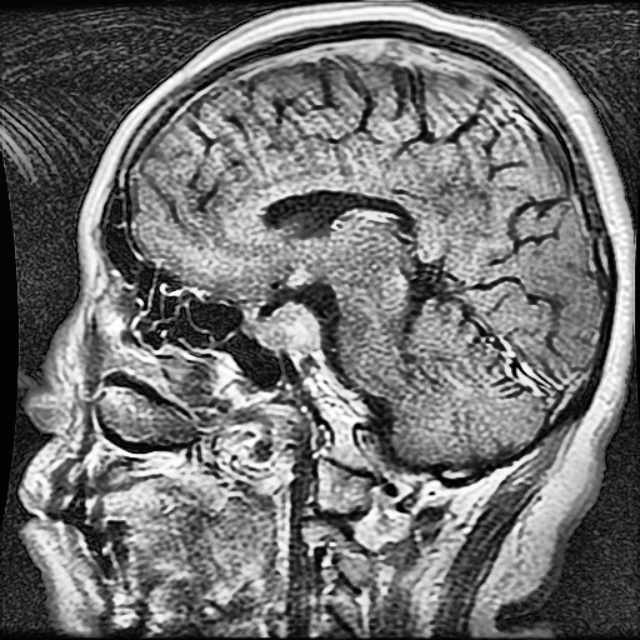Pituitary: (243, 300, 319, 350)
